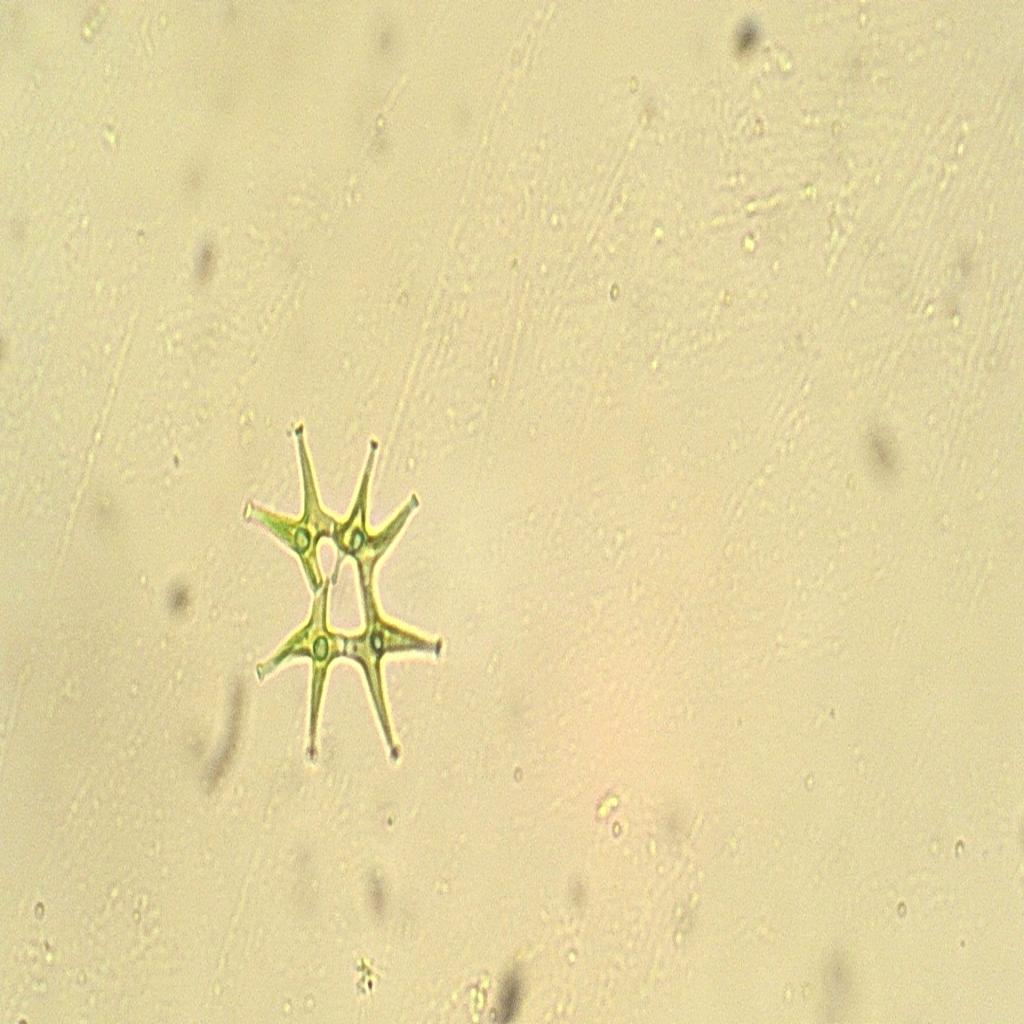Pediastrum_75FO: (232, 406, 452, 790)
